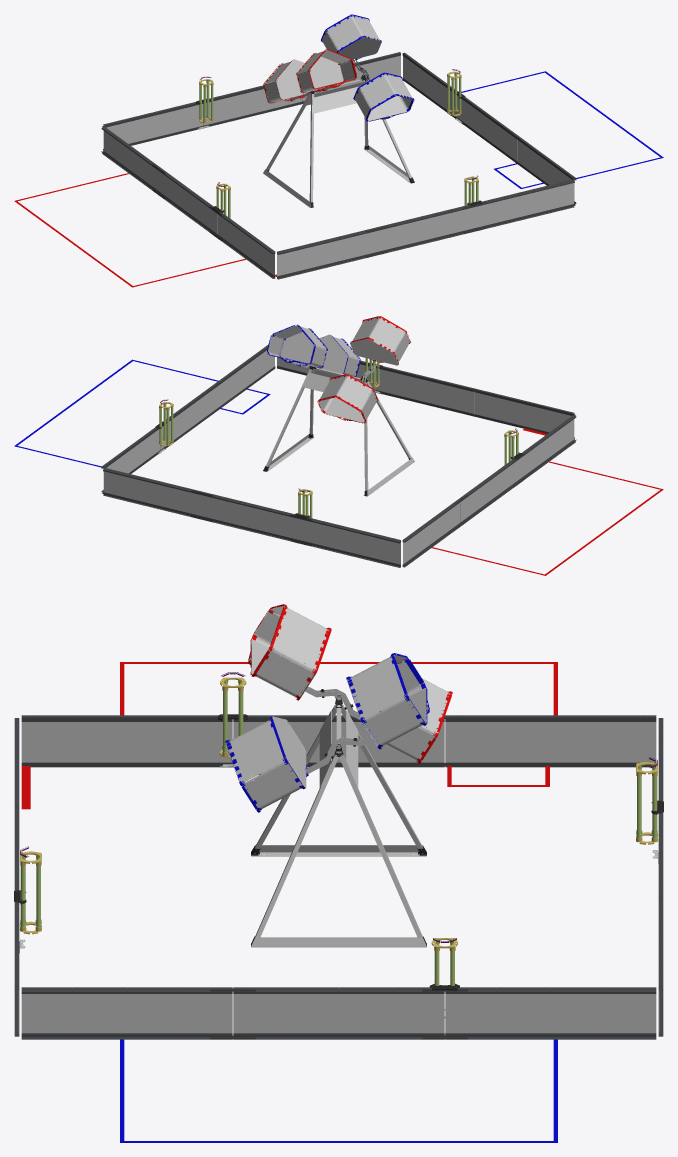
The model's file is field_cad.glb.
3 views of the same model, one above another, from view 1: azimuth 30°, elevation 25°; view 2: azimuth 150°, elevation 25°; view 3: azimuth 270°, elevation 25° (orthographic). The views are drawn at different scales.
Parts seen in each view (by area): view 1: glass_E|0.79,0.79,0.79, glass_W|0.79,0.79,0.79, hiveskin_blue|0.79,0.79,0.79, glass_S|0.79,0.79,0.79, glass_N|0.79,0.79,0.79, hiveskin_red|0.79,0.79,0.79, rail_E|0.09,0.10,0.10, static|0.79,0.79,0.79, rail_S|0.09,0.10,0.10, static|0.56,0.80,0.24, rail_W|0.09,0.10,0.10, rail_N|0.09,0.10,0.10 (+6 smaller); view 2: glass_W|0.79,0.79,0.79, glass_E|0.79,0.79,0.79, hiveskin_red|0.79,0.79,0.79, glass_S|0.79,0.79,0.79, glass_N|0.79,0.79,0.79, hiveskin_blue|0.79,0.79,0.79, rail_W|0.09,0.10,0.10, static|0.79,0.79,0.79, rail_S|0.09,0.10,0.10, rail_E|0.09,0.10,0.10, rail_N|0.09,0.10,0.10, static|0.56,0.80,0.24 (+4 smaller); view 3: glass_N|0.79,0.79,0.79, glass_S|0.79,0.79,0.79, hiveskin_blue|0.79,0.79,0.79, rail_N|0.09,0.10,0.10, static|0.79,0.79,0.79, rail_S|0.09,0.10,0.10, hiveskin_red|0.79,0.79,0.79, static|0.56,0.80,0.24, static|1.00,0.00,0.00, static|0.00,0.00,1.00, rail_E|0.09,0.10,0.10, rail_W|0.09,0.10,0.10 (+5 smaller).
Part boxes in pixels (x1,y1,x2,y2): glass_E|0.79,0.79,0.79: (277, 183, 573, 276); glass_W|0.79,0.79,0.79: (106, 55, 400, 143); hiveskin_blue|0.79,0.79,0.79: (322, 15, 412, 121); glass_S|0.79,0.79,0.79: (103, 131, 274, 275); glass_N|0.79,0.79,0.79: (403, 56, 574, 202); hiveskin_red|0.79,0.79,0.79: (264, 50, 356, 102); rail_E|0.09,0.10,0.10: (277, 179, 574, 279); static|0.79,0.79,0.79: (197, 64, 481, 239); rail_S|0.09,0.10,0.10: (101, 126, 275, 278); static|0.56,0.80,0.24: (199, 73, 478, 218); rail_W|0.09,0.10,0.10: (103, 52, 400, 150); rail_N|0.09,0.10,0.10: (402, 52, 576, 205); glass_W|0.79,0.79,0.79: (104, 471, 400, 564); glass_E|0.79,0.79,0.79: (277, 357, 571, 432); hiveskin_red|0.79,0.79,0.79: (318, 317, 409, 422); glass_S|0.79,0.79,0.79: (403, 419, 574, 564); glass_N|0.79,0.79,0.79: (103, 350, 274, 490); hiveskin_blue|0.79,0.79,0.79: (267, 325, 359, 376); rail_W|0.09,0.10,0.10: (103, 467, 400, 567); static|0.79,0.79,0.79: (157, 364, 522, 545); rail_S|0.09,0.10,0.10: (402, 414, 576, 567); rail_E|0.09,0.10,0.10: (277, 360, 574, 438); rail_N|0.09,0.10,0.10: (101, 344, 275, 493); static|0.56,0.80,0.24: (159, 358, 518, 518); glass_N|0.79,0.79,0.79: (21, 994, 656, 1033); glass_S|0.79,0.79,0.79: (21, 722, 656, 762); hiveskin_blue|0.79,0.79,0.79: (226, 654, 426, 810); rail_N|0.09,0.10,0.10: (21, 987, 656, 1039); static|0.79,0.79,0.79: (19, 687, 658, 1035); rail_S|0.09,0.10,0.10: (21, 715, 656, 767); hiveskin_red|0.79,0.79,0.79: (251, 606, 450, 761); static|0.56,0.80,0.24: (20, 679, 657, 985); static|1.00,0.00,0.00: (21, 662, 557, 809); static|0.00,0.00,1.00: (120, 1039, 557, 1142); rail_E|0.09,0.10,0.10: (14, 718, 19, 1036); rail_W|0.09,0.10,0.10: (658, 718, 663, 1036).
Bounding box in the file's own units: 6.38 × 1.69 × 3.65.
